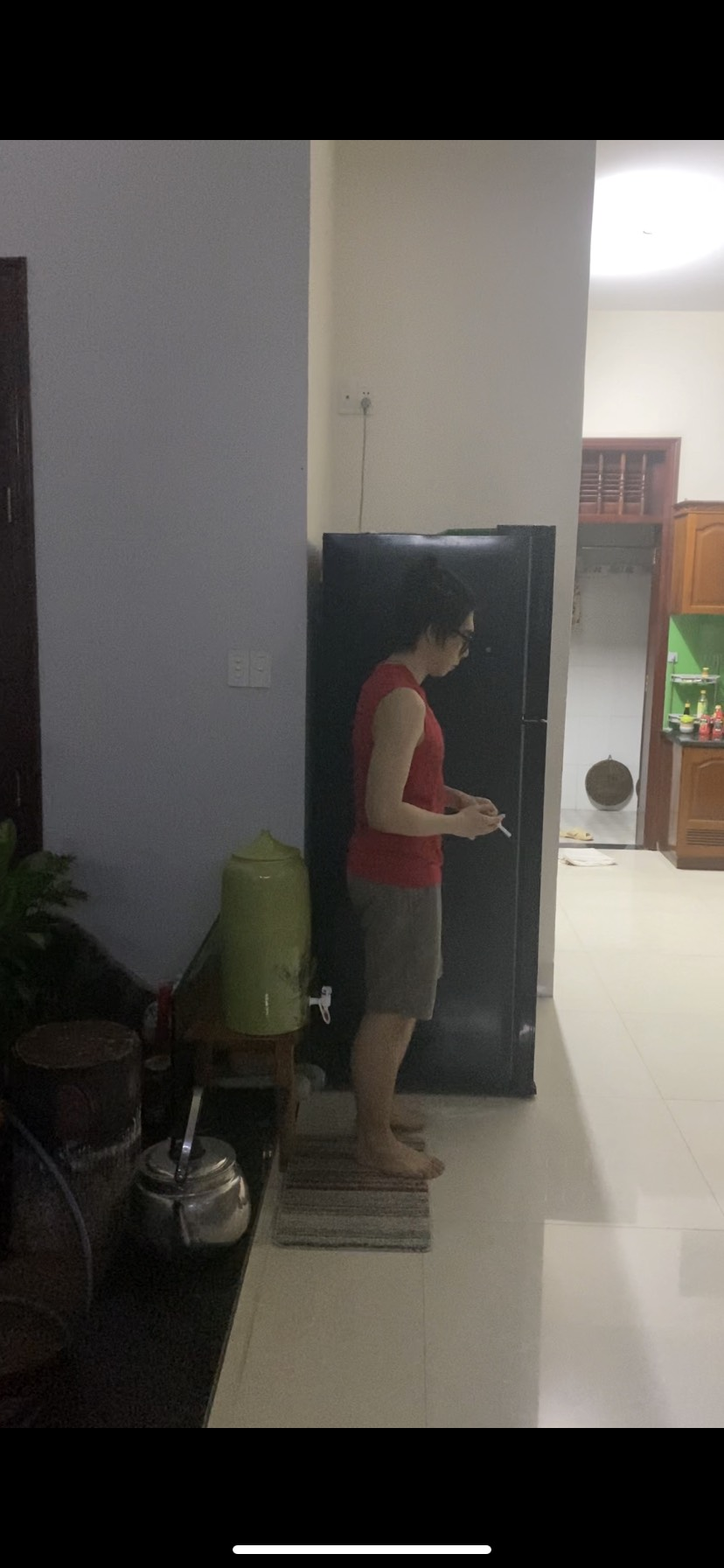cigarette: (497, 821, 515, 842)
person: (342, 561, 508, 1206)
